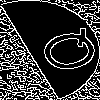Q: (24, 25, 100, 81)
